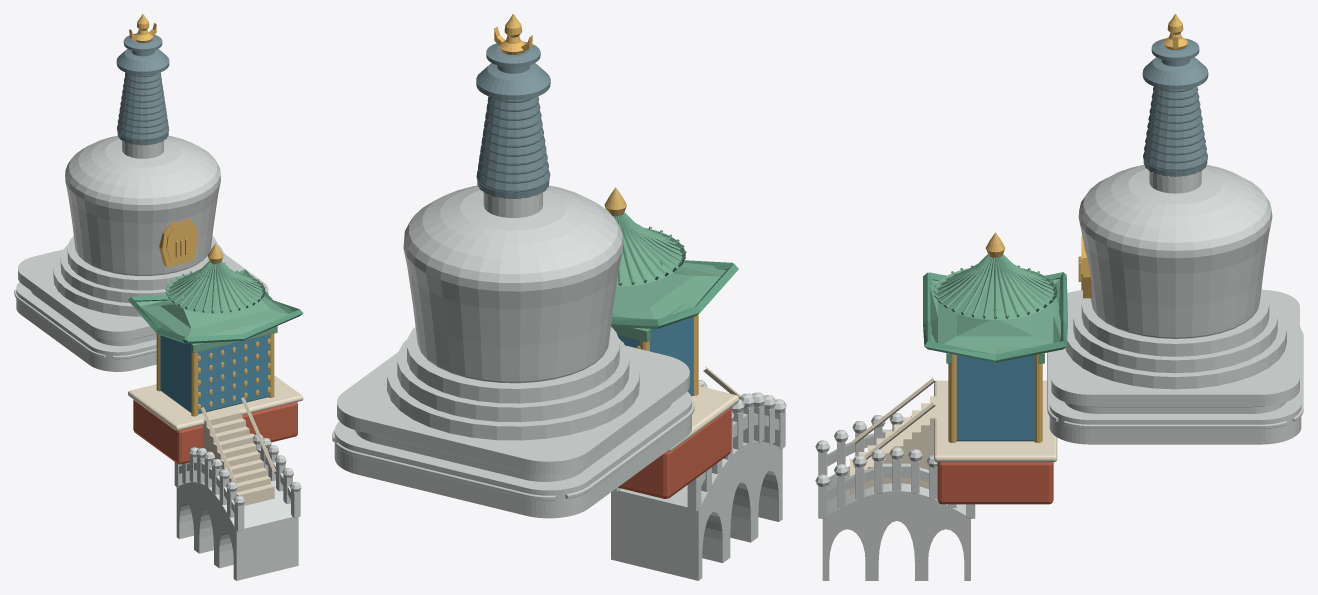
The picture shows the model from 3 angles, left to right: view 1: azimuth 30°, elevation 25°; view 2: azimuth 150°, elevation 25°; view 3: azimuth 270°, elevation 25°; orthographic projection. The views are drawn at different scales.
Visible parts, largest first — view 1: Dagoba_inverted_bowl_body, Yongan_bridge_continuous_deck, BH_SHANYIN_glazed_cube, Dagoba_three_receding_drum_steps, Dagoba_sumeru_cornice, BH_SHANYIN_own_red_platform, Dagoba_square_foundation, BH_SHANYIN_lower_square_eave, Dagoba_tapered_ringed_spire, BH_SHANYIN_white_platform_cap, BH_SHANYIN_upper_round_eave, BH_SHANYIN_lower_square_eave-eave (+14 smaller); view 2: Dagoba_inverted_bowl_body, Dagoba_three_receding_drum_steps, Yongan_bridge_continuous_deck, Dagoba_sumeru_cornice, Dagoba_square_foundation, Dagoba_tapered_ringed_spire, BH_SHANYIN_own_red_platform, BH_SHANYIN_lower_square_eave, Dagoba_sumeru_recessed_waist, Dagoba_lower_copper_umbrella, Dagoba_square_foundation__ExistingCourseRelief, BH_SHANYIN_glazed_cube (+5 smaller); view 3: Dagoba_inverted_bowl_body, Dagoba_three_receding_drum_steps, Dagoba_sumeru_cornice, Yongan_bridge_continuous_deck, Dagoba_square_foundation, BH_SHANYIN_glazed_cube, BH_SHANYIN_own_red_platform, Dagoba_tapered_ringed_spire, BH_SHANYIN_lower_square_eave, BH_SHANYIN_white_platform_cap, BH_SHANYIN_upper_round_eave, BH_SHANYIN_lower_square_eave-eave (+7 smaller).
Boxes of the visible parts, <box> form: Dagoba_inverted_bowl_body: <box>65,135,220,275</box>; Yongan_bridge_continuous_deck: <box>176,473,298,580</box>; BH_SHANYIN_glazed_cube: <box>160,335,268,413</box>; Dagoba_three_receding_drum_steps: <box>53,236,232,316</box>; Dagoba_sumeru_cornice: <box>18,249,268,340</box>; BH_SHANYIN_own_red_platform: <box>133,399,297,464</box>; Dagoba_square_foundation: <box>16,282,156,371</box>; BH_SHANYIN_lower_square_eave: <box>136,296,293,340</box>; Dagoba_tapered_ringed_spire: <box>117,72,169,145</box>; BH_SHANYIN_white_platform_cap: <box>128,375,303,430</box>; BH_SHANYIN_upper_round_eave: <box>166,272,265,313</box>; BH_SHANYIN_lower_square_eave-eave: <box>128,269,303,343</box>; Dagoba_inverted_bowl_body: <box>403,185,623,383</box>; Dagoba_three_receding_drum_steps: <box>387,326,639,440</box>; Yongan_bridge_continuous_deck: <box>611,440,782,580</box>; Dagoba_sumeru_cornice: <box>337,345,689,474</box>; Dagoba_square_foundation: <box>334,391,691,518</box>; Dagoba_tapered_ringed_spire: <box>476,96,550,198</box>; BH_SHANYIN_own_red_platform: <box>618,407,731,498</box>; BH_SHANYIN_lower_square_eave: <box>612,262,726,319</box>; Dagoba_sumeru_recessed_waist: <box>355,404,671,481</box>; Dagoba_lower_copper_umbrella: <box>476,63,550,100</box>; Dagoba_square_foundation__ExistingCourseRelief: <box>332,402,694,500</box>; BH_SHANYIN_glazed_cube: <box>617,317,693,396</box>; Dagoba_inverted_bowl_body: <box>1078,165,1272,338</box>; Dagoba_three_receding_drum_steps: <box>1065,289,1286,389</box>; Dagoba_sumeru_cornice: <box>1051,290,1299,406</box>; Yongan_bridge_continuous_deck: <box>822,466,970,580</box>; Dagoba_square_foundation: <box>1049,326,1301,444</box>; BH_SHANYIN_glazed_cube: <box>956,355,1034,441</box>; BH_SHANYIN_own_red_platform: <box>937,462,1053,504</box>; Dagoba_tapered_ringed_spire: <box>1143,86,1207,176</box>; BH_SHANYIN_lower_square_eave: <box>930,279,1060,354</box>; BH_SHANYIN_white_platform_cap: <box>934,380,1057,462</box>; BH_SHANYIN_upper_round_eave: <box>934,268,1056,319</box>; BH_SHANYIN_lower_square_eave-eave: <box>923,272,1067,362</box>.
Size of the model in its own units: 1.04 by 2.5 by 1.98.
